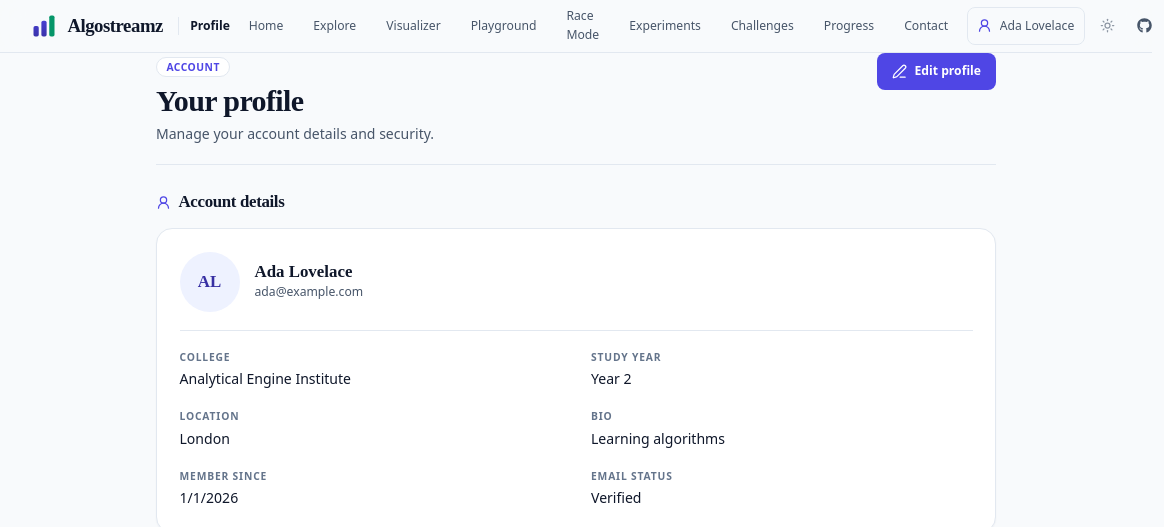
Scenario: ProfilePage › shows inline validation errors and does not submit invalid profile data
expect the link with aria-label "Open profile for Ada Lovelace" is shown: met, box 967,7 -> 1085,44
Click the button "Edit profile" at [936, 71], box 877,52 -> 996,90
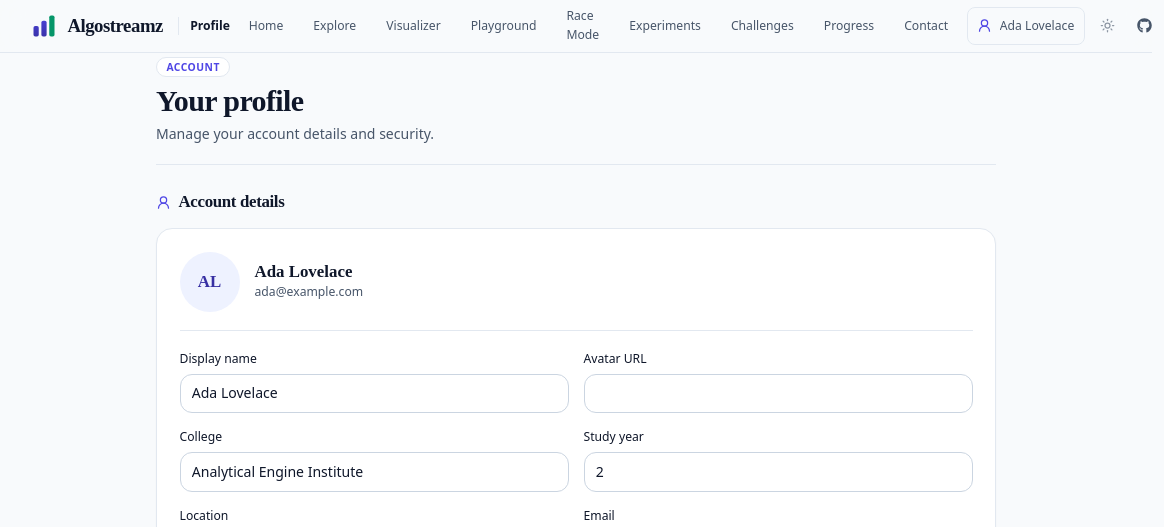
Type "javascript:alert(1)" into the field labelled "Avatar URL" at [778, 394], box 584,374 -> 972,413
(page scrolled)
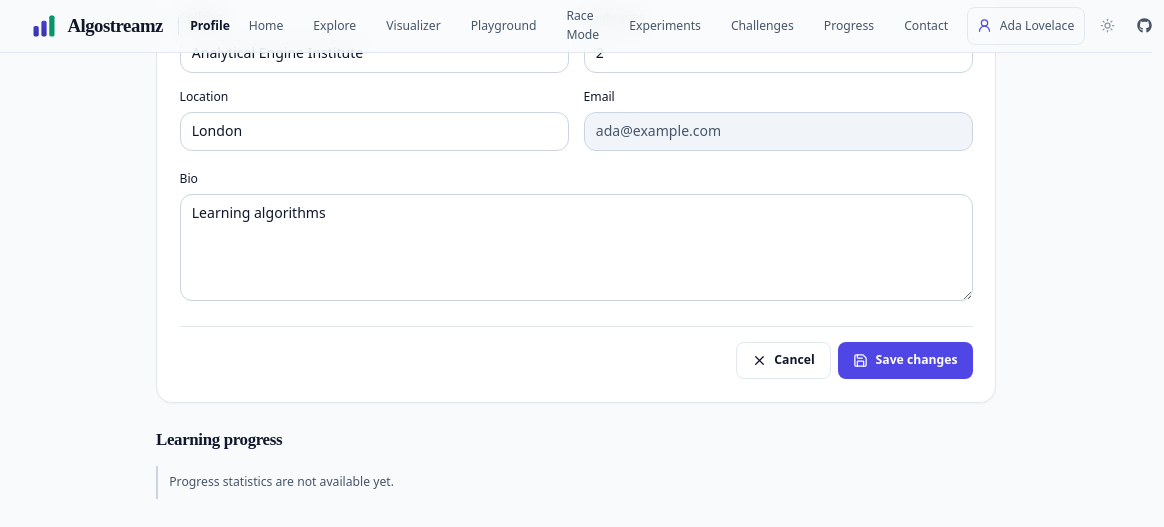
Click the button "Save changes" at [905, 360], box 838,342 -> 972,379
(page scrolled)
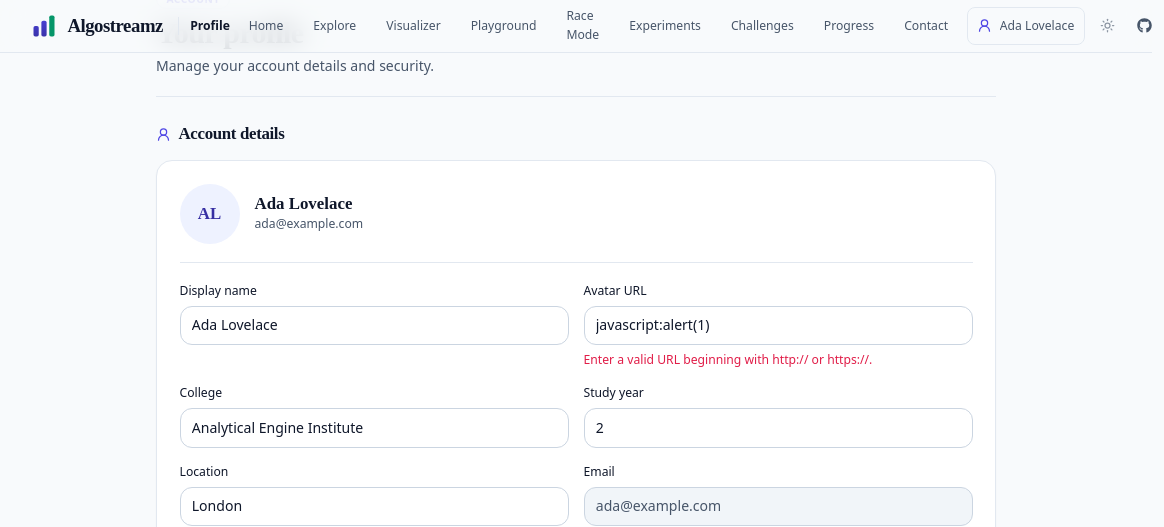
expect the text "Enter a valid URL beginning with http:// or https://." is shown: met, box 584,351 -> 872,368
